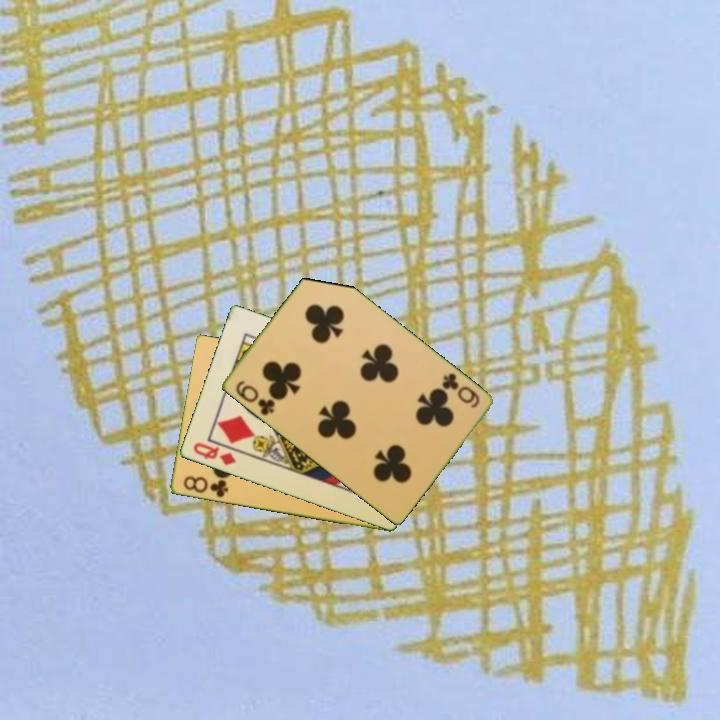6c: (231, 377, 277, 419), (438, 369, 482, 411)
8c: (179, 473, 231, 501)
Qd: (189, 439, 238, 469)
